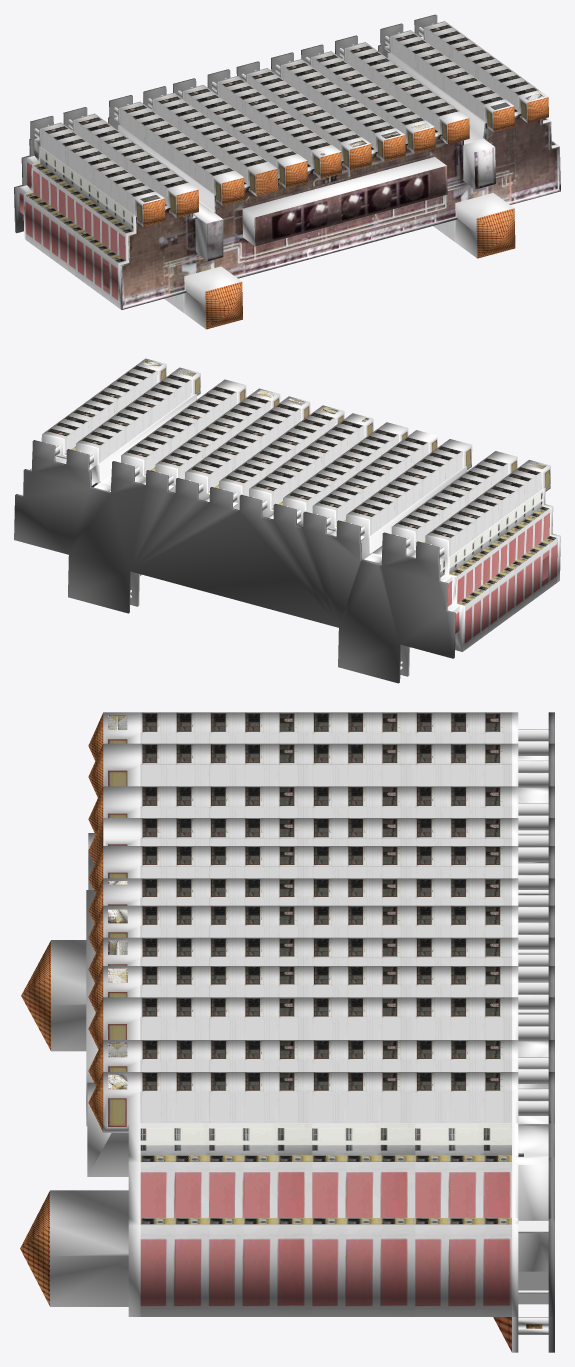
File: amk_blk321_building.obj
3 views of the same model, one above another, from view 1: azimuth 30°, elevation 25°; view 2: azimuth 150°, elevation 25°; view 3: azimuth 270°, elevation 25° (orthographic). The views are drawn at different scales.
Parts seen in each view (by area): view 1: polygon.790; view 2: polygon.790; view 3: polygon.790.
Boxes of the visible parts, bbox=[...] form: polygon.790: bbox=[14, 14, 560, 329]; polygon.790: bbox=[14, 358, 560, 683]; polygon.790: bbox=[20, 712, 554, 1352].
Bounding box in the file's own units: 83.01 × 27.58 × 43.66.
1 material, 1 textured.
